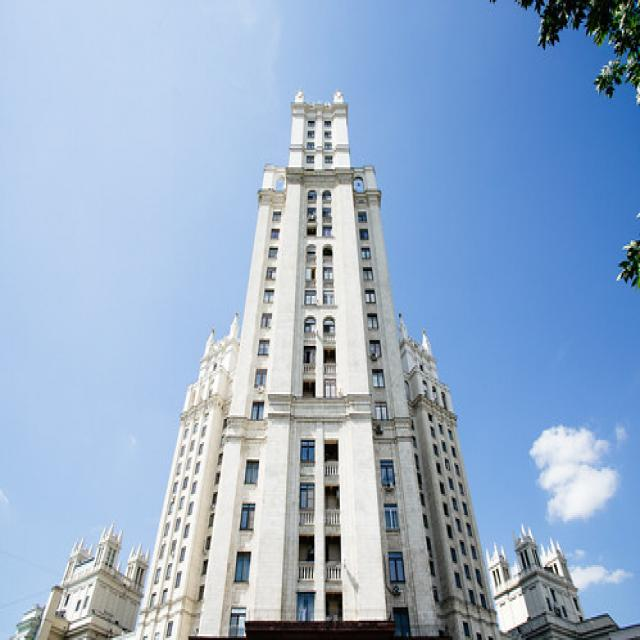Normal_building: (147, 82, 505, 640)
